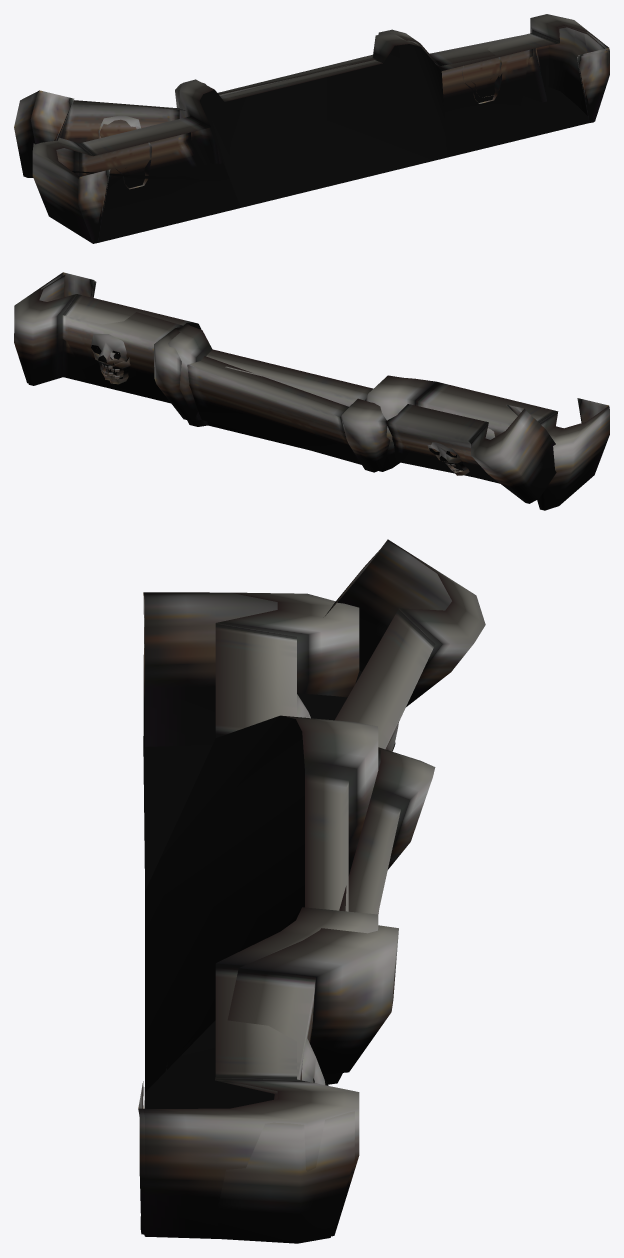
The model's file is fbmp_lr_rem1.glb.
3 renders of one model, top to bottom at view 1: azimuth 30°, elevation 25°; view 2: azimuth 150°, elevation 25°; view 3: azimuth 270°, elevation 25°, orthographic. The views are drawn at different scales.
Parts seen in each view (by area): view 1: fbmp_lr_rem1, fbmp_lr_rem1_dam; view 2: fbmp_lr_rem1_dam, fbmp_lr_rem1; view 3: fbmp_lr_rem1, fbmp_lr_rem1_dam.
Boxes of the visible parts, left/top/right/bottom form: fbmp_lr_rem1: left=32, top=14, right=609, bottom=243; fbmp_lr_rem1_dam: left=14, top=25, right=608, bottom=180; fbmp_lr_rem1_dam: left=14, top=275, right=556, bottom=503; fbmp_lr_rem1: left=14, top=272, right=609, bottom=510; fbmp_lr_rem1: left=143, top=592, right=378, bottom=1238; fbmp_lr_rem1_dam: left=138, top=539, right=485, bottom=1243.
Size of the model in its own units: 2.19 by 0.4151 by 0.608.
2 materials, 2 textured.
